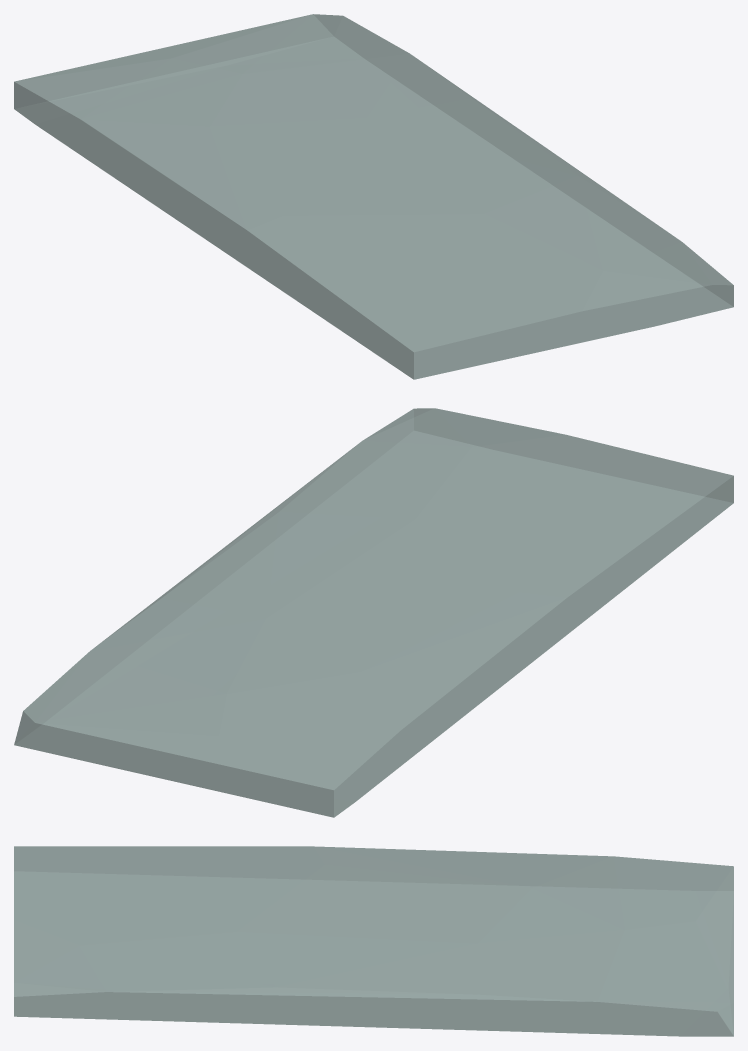
3 renders of one model, top to bottom at view 1: azimuth 30°, elevation 25°; view 2: azimuth 150°, elevation 25°; view 3: azimuth 270°, elevation 25°, orthographic. The views are drawn at different scales.
Visible parts, largest first — view 1: Shape_IndexedFaceSet.010_Shape_IndexedFaceSet.10720; view 2: Shape_IndexedFaceSet.010_Shape_IndexedFaceSet.10720; view 3: Shape_IndexedFaceSet.010_Shape_IndexedFaceSet.10720.
Boxes of the visible parts, x1=… form: Shape_IndexedFaceSet.010_Shape_IndexedFaceSet.10720: x1=14, y1=14, x2=733, y2=379; Shape_IndexedFaceSet.010_Shape_IndexedFaceSet.10720: x1=14, y1=408, x2=733, y2=817; Shape_IndexedFaceSet.010_Shape_IndexedFaceSet.10720: x1=14, y1=846, x2=733, y2=1036.
Size of the model in its own units: 0.2015 by 0.033 by 0.4359.
